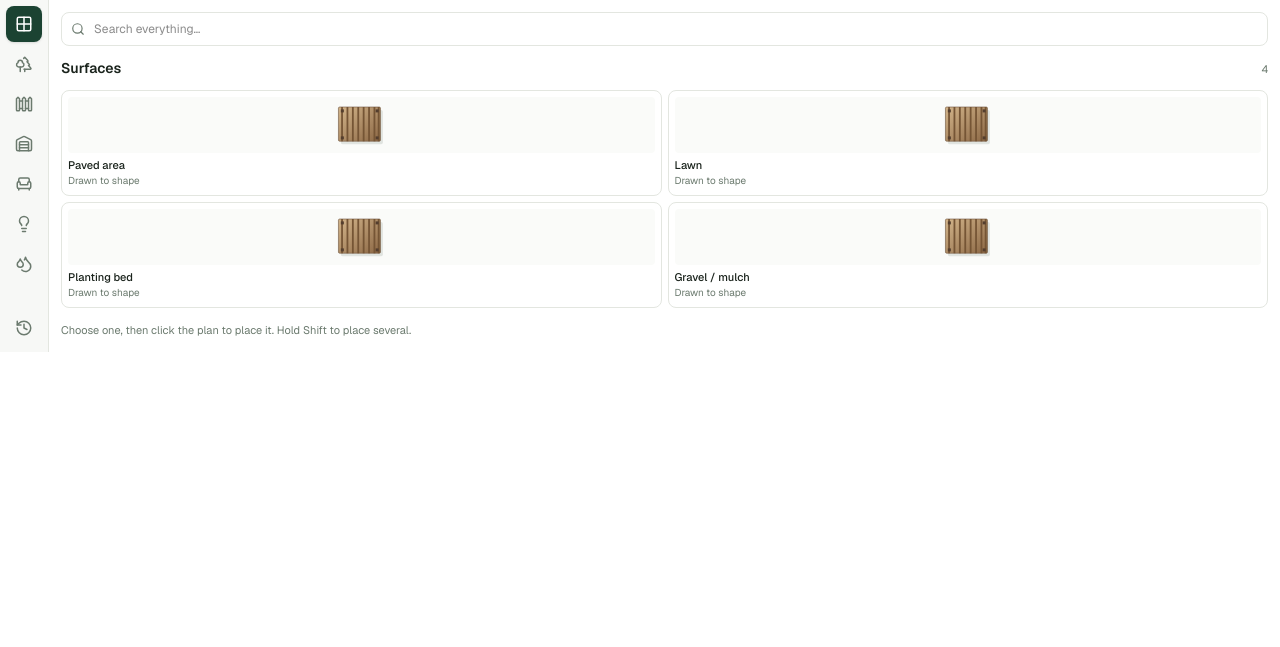
it: the rail › opens on the surfaces, and shows one category at a time
Expected: the button with test id "palette-lawn" is shown, [668,90,1268,196]
Click the tab with test id "palette-group-furniture": click(24, 184) [6,166,42,202]
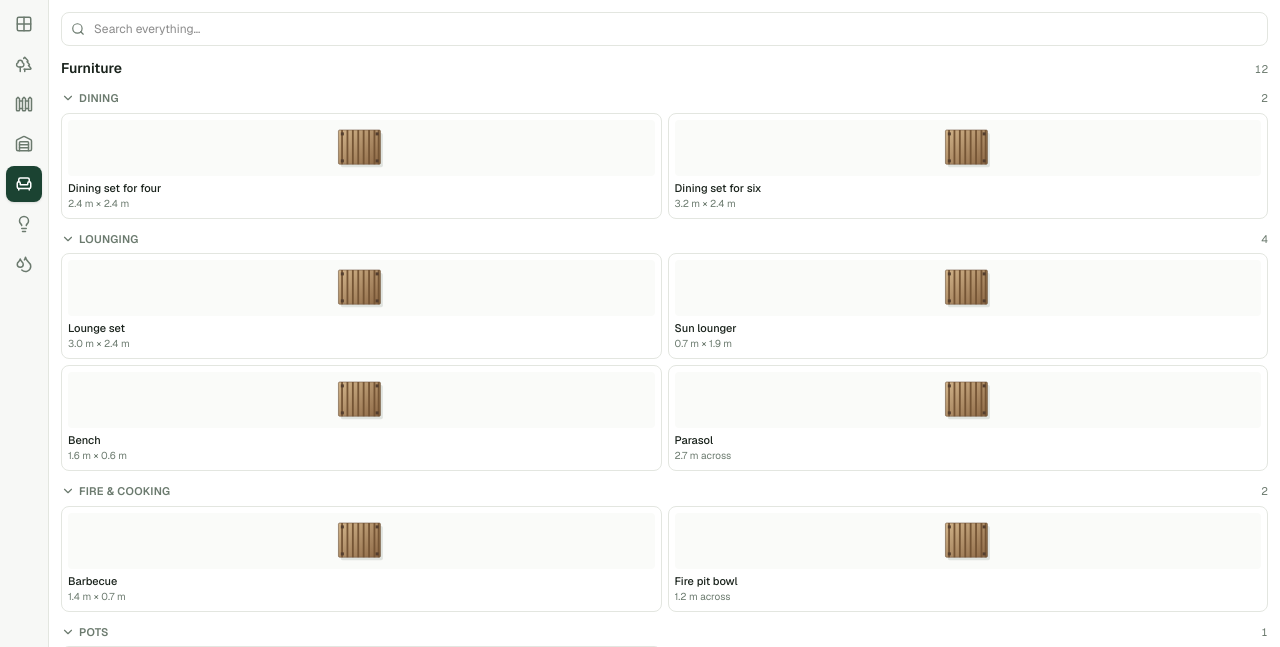
Now the button with test id "palette-dining-set-4" is shown, box [61,112,662,218]
Now the button with test id "palette-lawn" is gone
